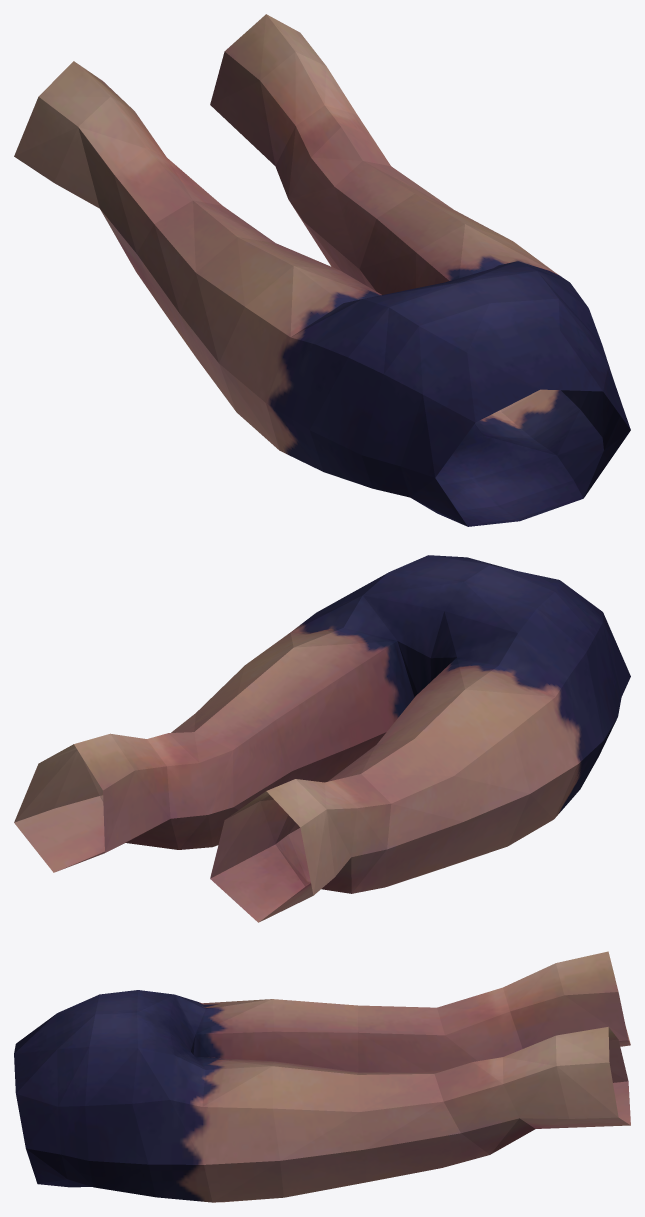
Rendered from dancer_trousers_female_270006.obj.
3 renders of one model, top to bottom at view 1: azimuth 30°, elevation 25°; view 2: azimuth 150°, elevation 25°; view 3: azimuth 270°, elevation 25°, orthographic. The views are drawn at different scales.
Parts seen in each view (by area): view 1: dancer_trousers_female_270006; view 2: dancer_trousers_female_270006; view 3: dancer_trousers_female_270006.
Boxes of the visible parts, x1,y1,x2,y2 form: dancer_trousers_female_270006: (14, 14, 630, 526); dancer_trousers_female_270006: (14, 555, 630, 922); dancer_trousers_female_270006: (14, 951, 630, 1202).
Bounding box in the file's own units: 16.48 × 11.49 × 35.13.
1 material, 1 textured.
